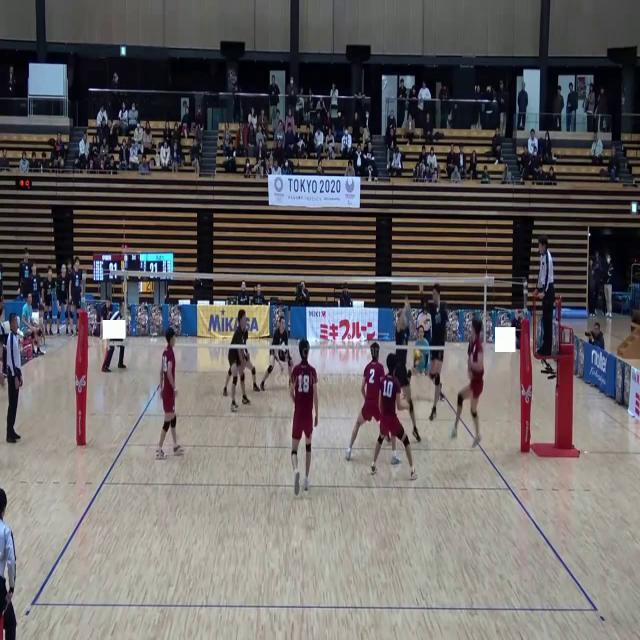volleyball: (413, 350, 422, 362)
